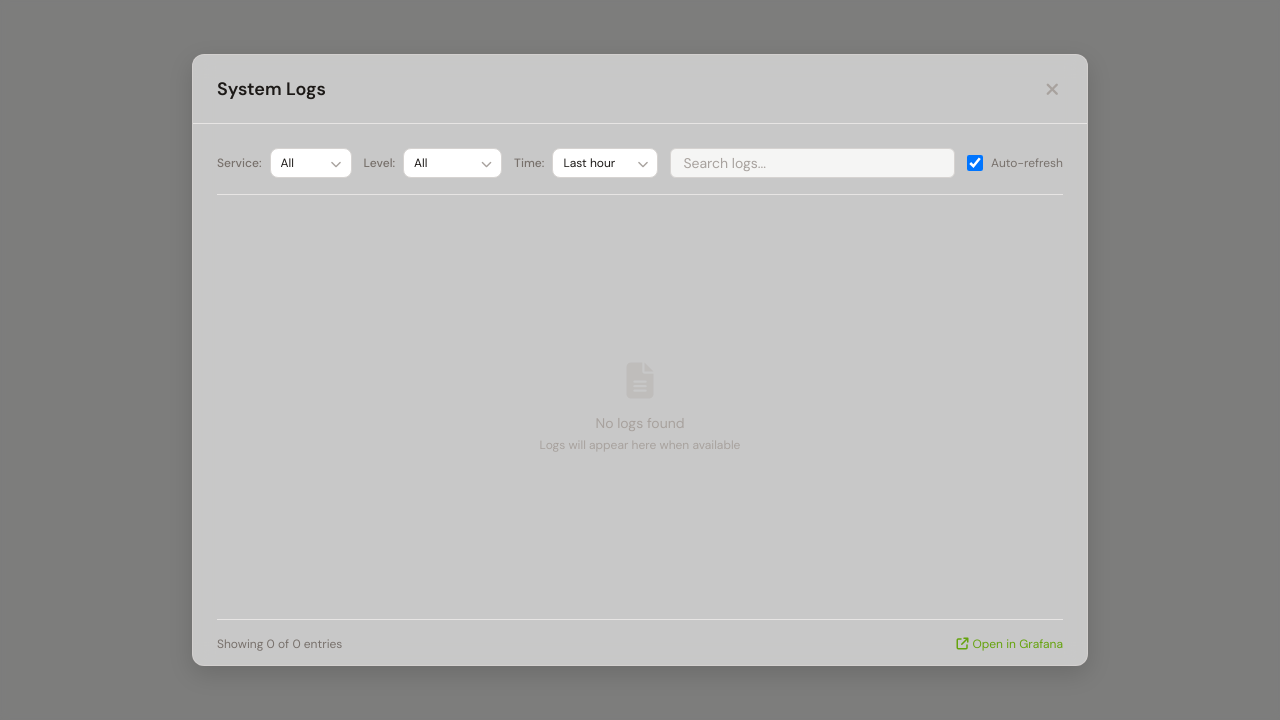
Scenario: SystemLogsModal › Empty state › suggests adjusting filters when no logs found with filters
The image size is (1280, 720).
# Apply a filter
Select "api" in the dropdown next to "Service:" at (311, 163), box [270,148,352,178]
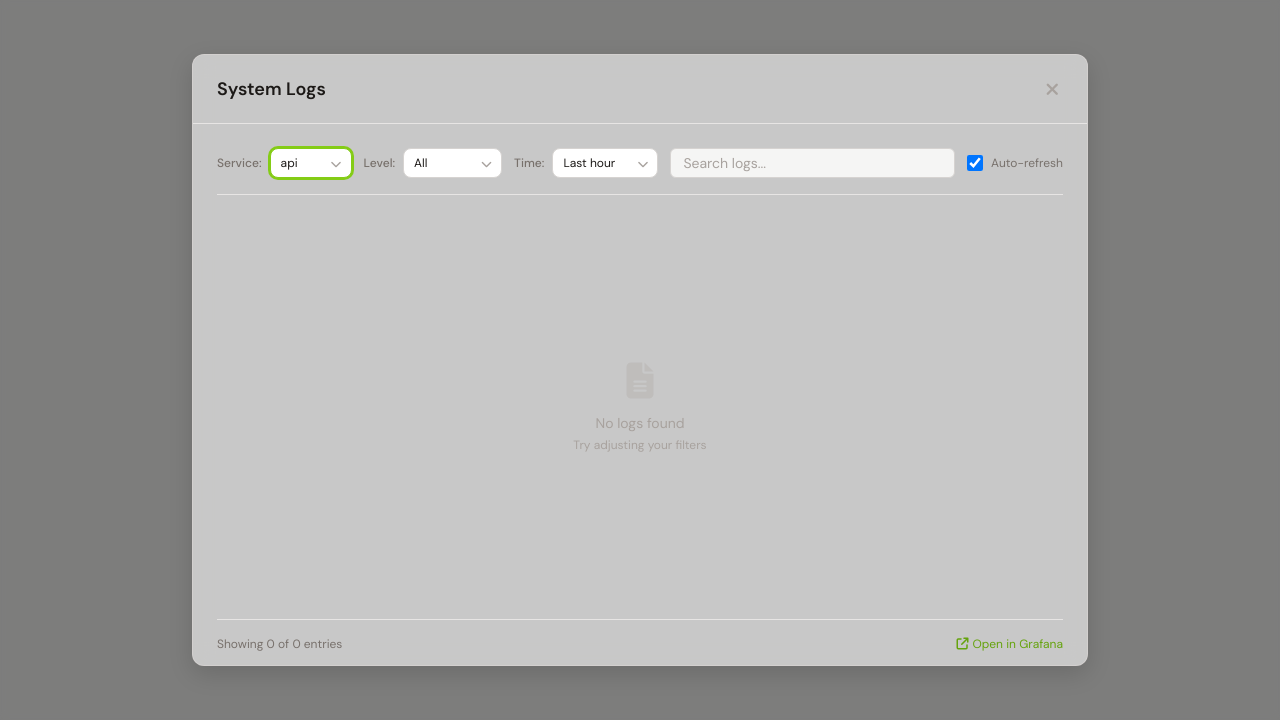
Now the text "Try adjusting your filters" is shown, box [573,437,707,453]
